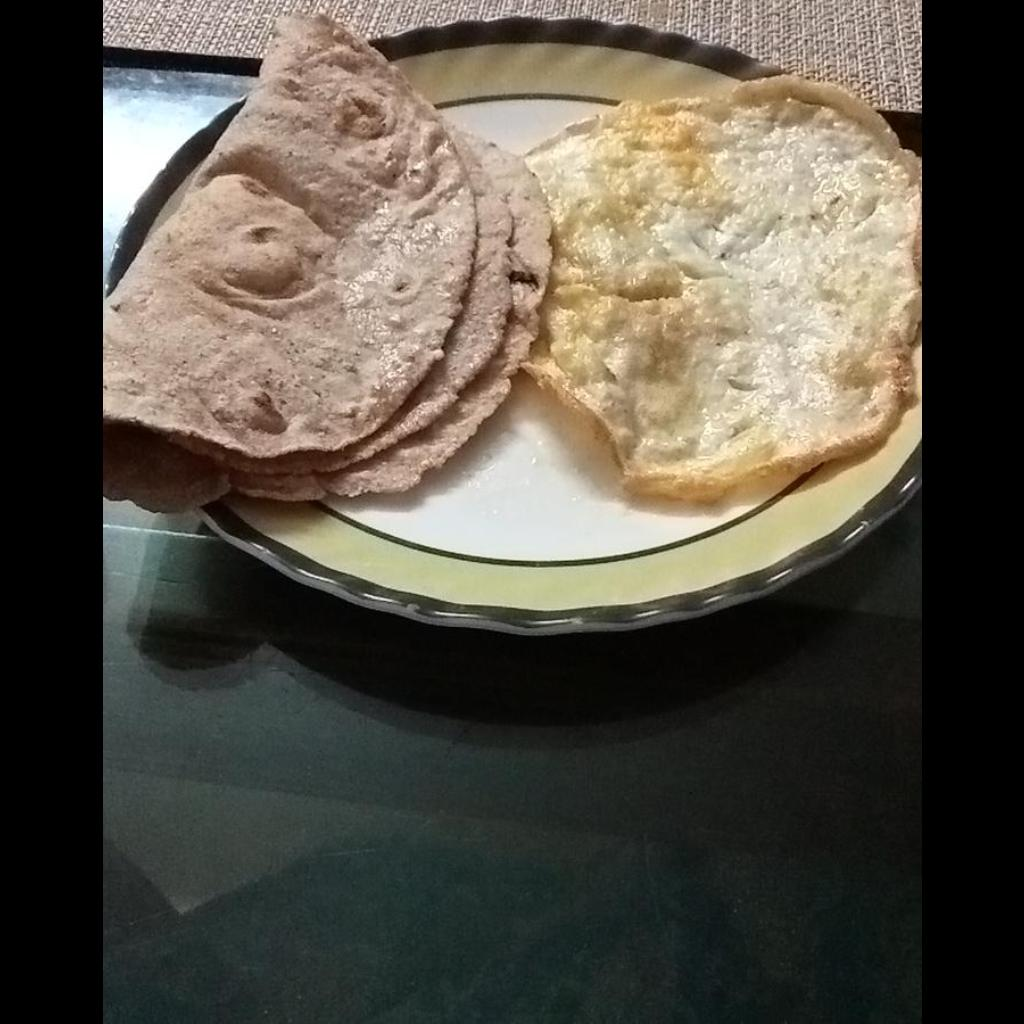egg-poached: (528, 77, 920, 489)
ruti: (107, 13, 551, 492)
